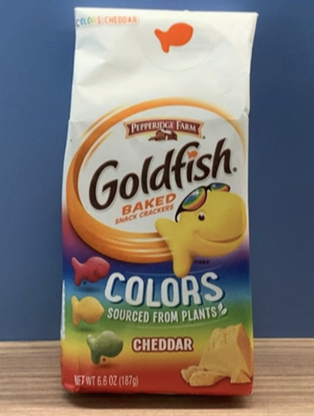crackers_150g: (71, 102, 244, 388)
